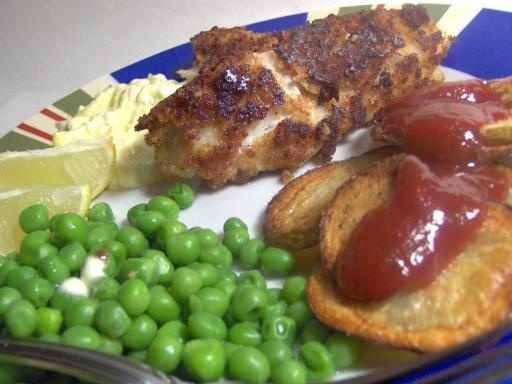background: (0, 1, 410, 230)
